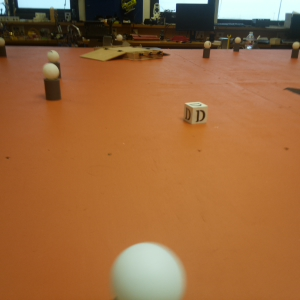obstacle: (44, 63, 60, 101), (290, 41, 300, 59), (233, 36, 241, 53), (203, 41, 210, 58), (1, 38, 6, 55)
side: (129, 51, 163, 60)
slope: (81, 49, 126, 63)
